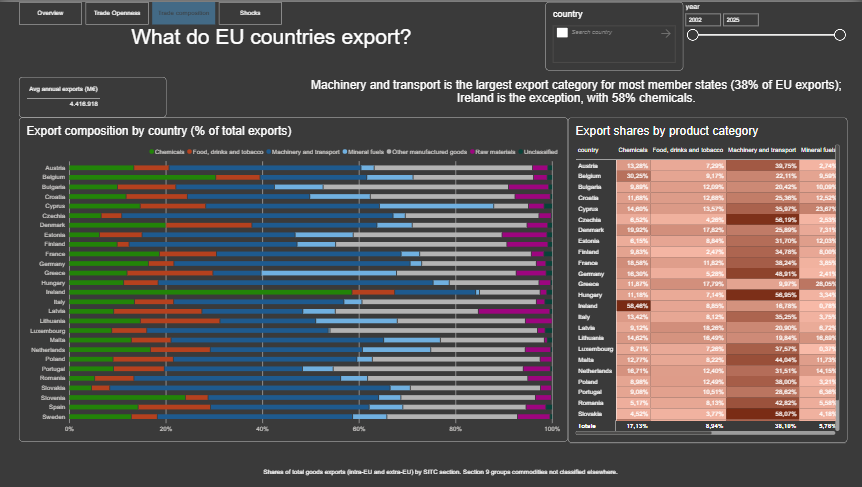

This screenshot's page, from the dashboard's own definition file:
{"tool":"powerbi","page":{"name":"Trade composition","canvas":[1920,1080],"ordinal":2},"visuals":[{"type":"textbox","title":"What do EU countries export?","box":[0,50,1215,116.7],"z":0},{"type":"textSlicer","fields":{"Values":["dim_country.country"]},"box":[1215,0,306,152],"z":1000},{"type":"slicer","fields":{"Values":["dim_year.year"]},"box":[1520,0,366.7,153.3],"z":2000},{"type":"tableEx","fields":{"Values":["_Measures.Avg annual exports (M€)"]},"box":[46,166,327.5,90],"z":3000},{"type":"hundredPercentStackedBarChart","title":"Export composition by country (% of total exports)","fields":{"Category":["dim_country.country"],"Series":["in_ex_eu_prcategories.product_description"],"Y":["_Measures.Category exports (M€)"]},"box":[46,256,1220,720],"z":4000},{"type":"pivotTable","title":"Export shares by product category","fields":{"Columns":["in_ex_eu_prcategories.product_description"],"Rows":["dim_country.country"],"Values":["_Measures.Export share %"]},"box":[1266,256,620.3,722.9],"z":5000},{"type":"textbox","box":[45,1035,1874,46],"z":6000},{"type":"textbox","box":[682,138,1204,104],"z":8000},{"type":"pageNavigator","box":[45.6,0,587.1,50],"z":8001}]}

Visuals, with their boxes on the page's 1920x1080 design canvas (x1, y1, x2, y2). These are canvas units, not pixel positions in the 862x487 screenshot, which may show the page scaled, cropped or inside an application window:
"What do EU countries export?" textbox: bbox=[0, 50, 1215, 167]
textSlicer - dim_country.country: bbox=[1215, 0, 1521, 152]
slicer - dim_year.year: bbox=[1520, 0, 1887, 153]
tableEx - _Measures.Avg annual exports (M€): bbox=[46, 166, 374, 256]
"Export composition by country (% of total exports)" hundredPercentStackedBarChart: bbox=[46, 256, 1266, 976]
"Export shares by product category" pivotTable: bbox=[1266, 256, 1886, 979]
textbox: bbox=[45, 1035, 1919, 1081]
textbox: bbox=[682, 138, 1886, 242]
pageNavigator: bbox=[46, 0, 633, 50]
